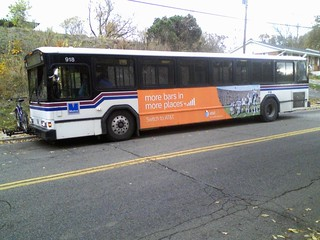bus: (23, 46, 310, 144)
